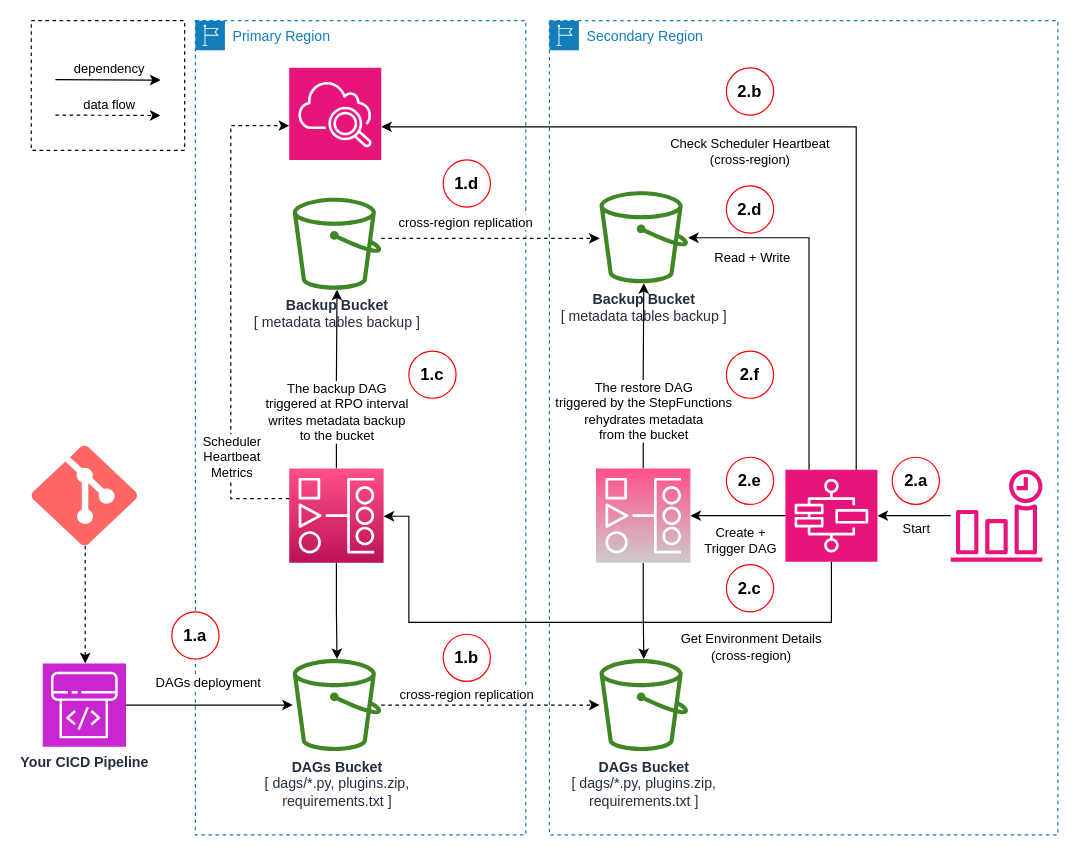
Some shapes in this 1079 by 865 pixel diagram are drawn without their labels. The centre of each missing label's shape, as x and y in pixels:
CloudWatch Metrics: point 334,113
EventBridge Scheduler: point 996,515
Legend: point 107,84
Primary MWAA: point 336,515
Secondary MWAA (created on-demand): point 642,515
Step Functions: point 830,515
Your Source Code Repository: point 84,495
